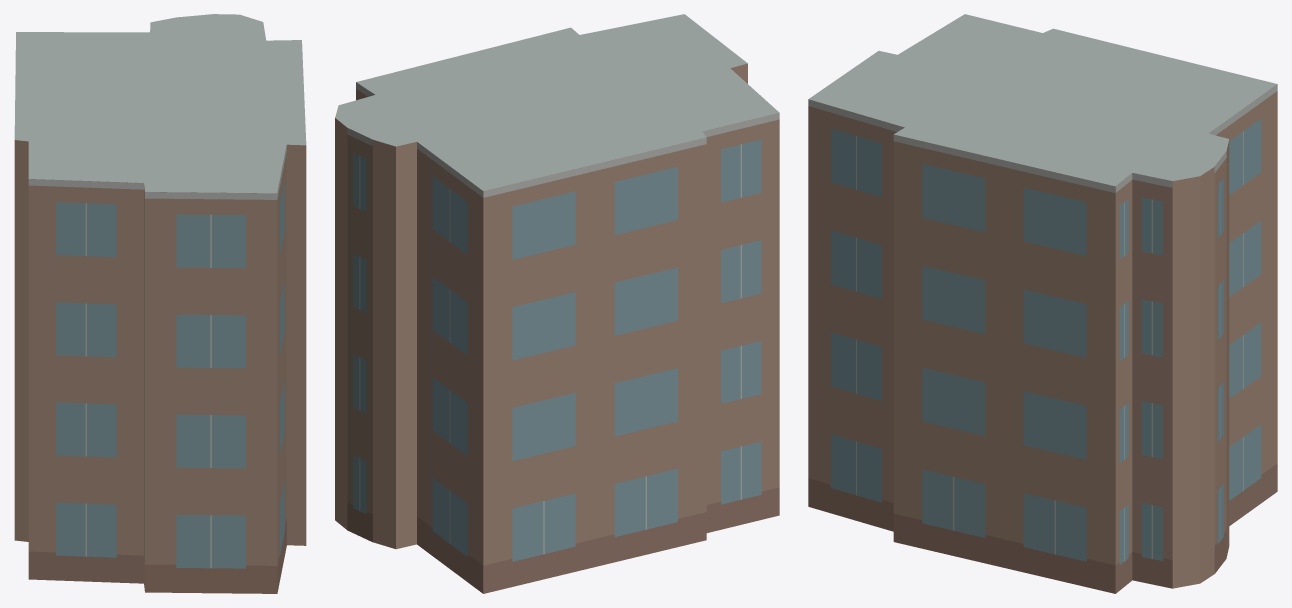
Rendered from survey-upis-32614011.glb.
The picture shows the model from 3 angles, left to right: view 1: azimuth 30°, elevation 25°; view 2: azimuth 150°, elevation 25°; view 3: azimuth 270°, elevation 25°; orthographic projection.
Parts seen in each view (by area): view 1: survey-upis-32614011.tmp; view 2: survey-upis-32614011.tmp; view 3: survey-upis-32614011.tmp.
Part boxes in pixels (x1,y1,x2,y2): survey-upis-32614011.tmp: (14,14,306,593); survey-upis-32614011.tmp: (335,14,779,593); survey-upis-32614011.tmp: (808,14,1277,593).
Bounding box in the file's own units: 13.39 × 14.75 × 15.41.
